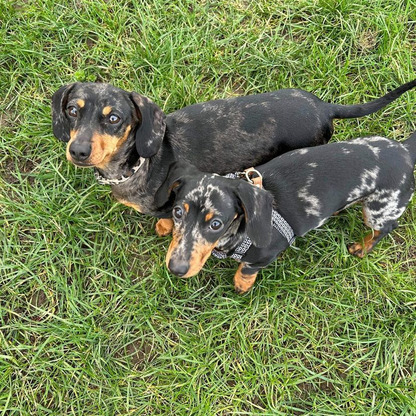dachshund: (165, 157, 400, 297), (45, 79, 361, 182)
